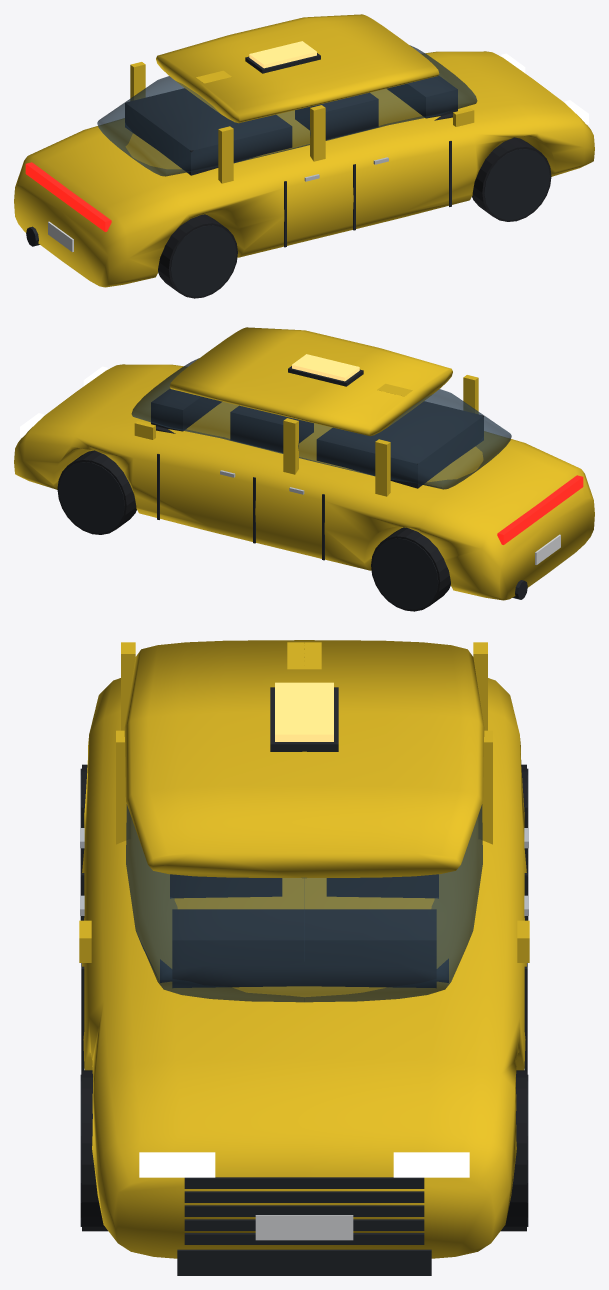
The model's file is taxi.glb.
The picture shows the model from 3 angles, top to bottom: view 1: azimuth 30°, elevation 25°; view 2: azimuth 150°, elevation 25°; view 3: azimuth 270°, elevation 25°; orthographic projection. The views are drawn at different scales.
Visible parts, largest first — view 1: VehicleTaxi; view 2: VehicleTaxi; view 3: VehicleTaxi.
Part boxes in pixels (left/top/right/bottom): VehicleTaxi: left=14, top=14, right=594, bottom=298; VehicleTaxi: left=14, top=327, right=594, bottom=611; VehicleTaxi: left=79, top=640, right=529, bottom=1275.
Bounding box in the file's own units: 0.471 × 0.1567 × 0.187.
